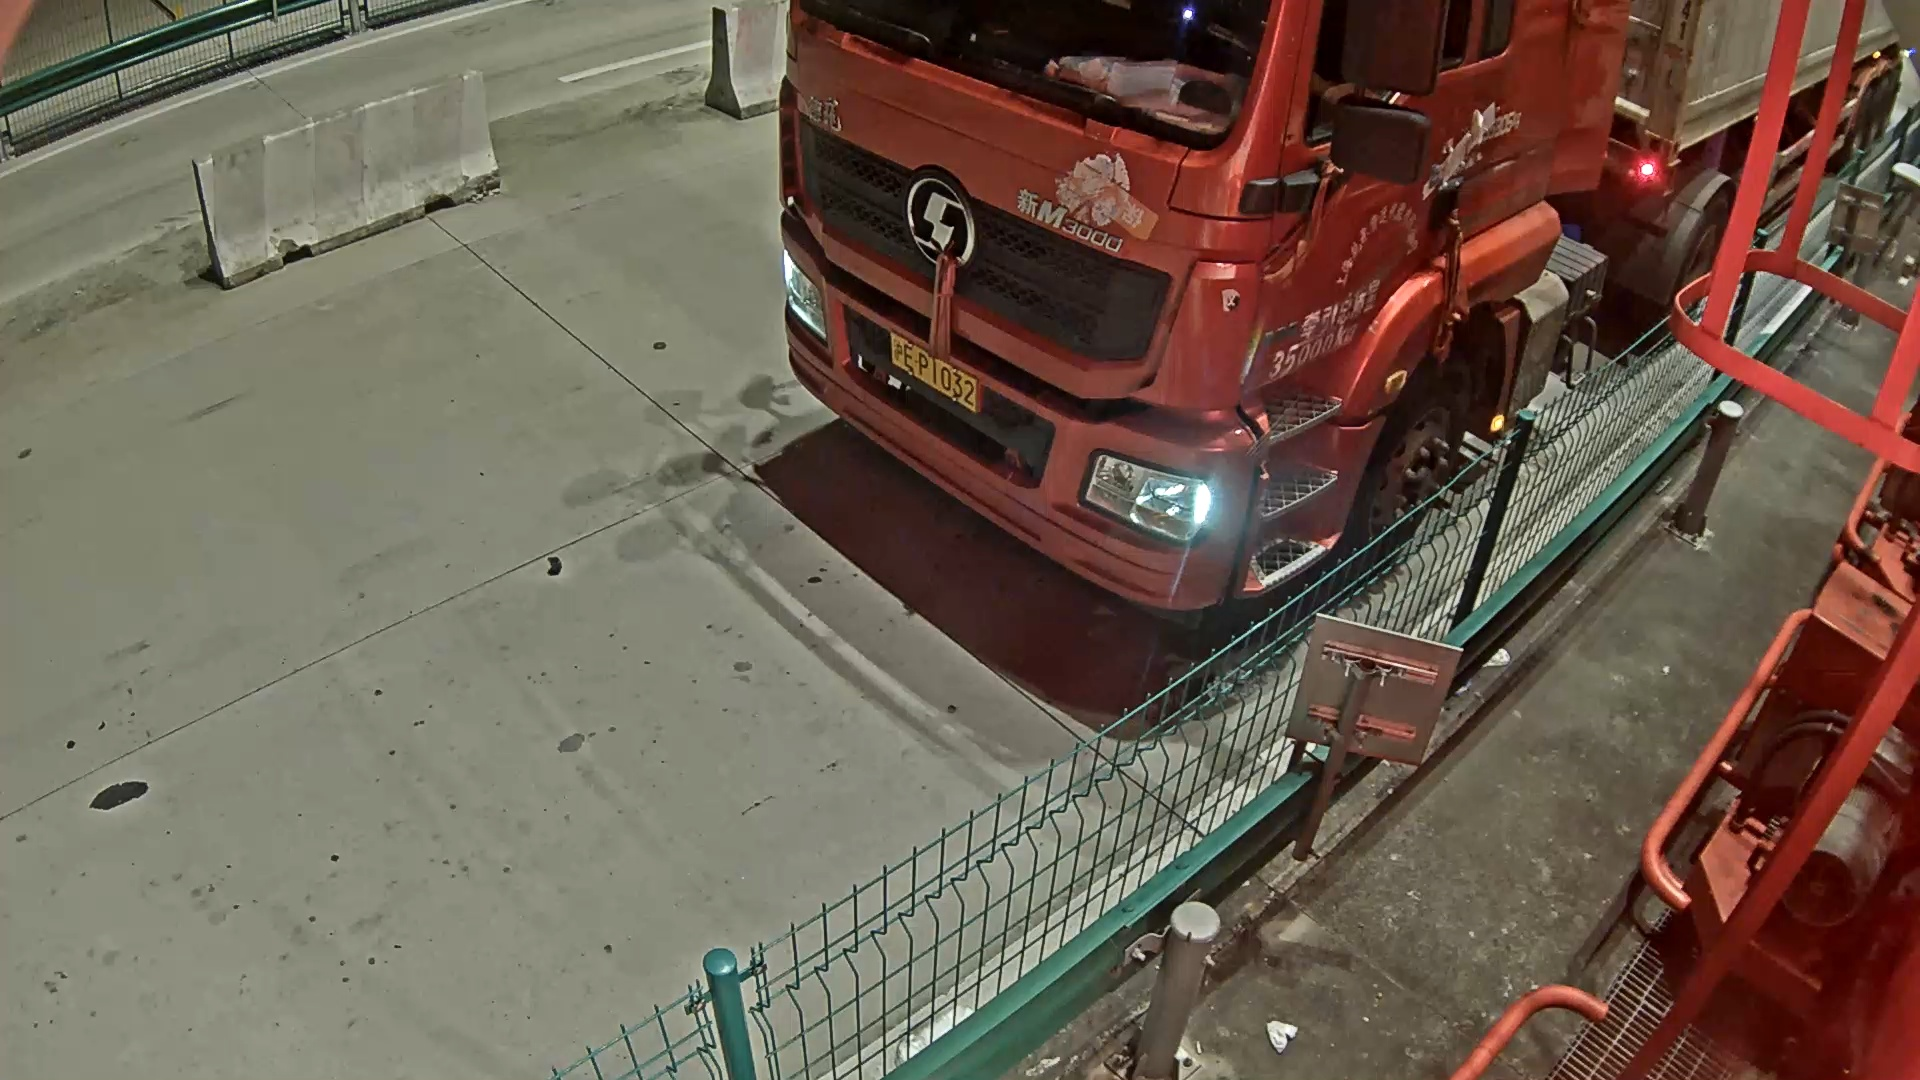head: (764, 30, 1349, 647)
plate: (883, 334, 995, 431)
